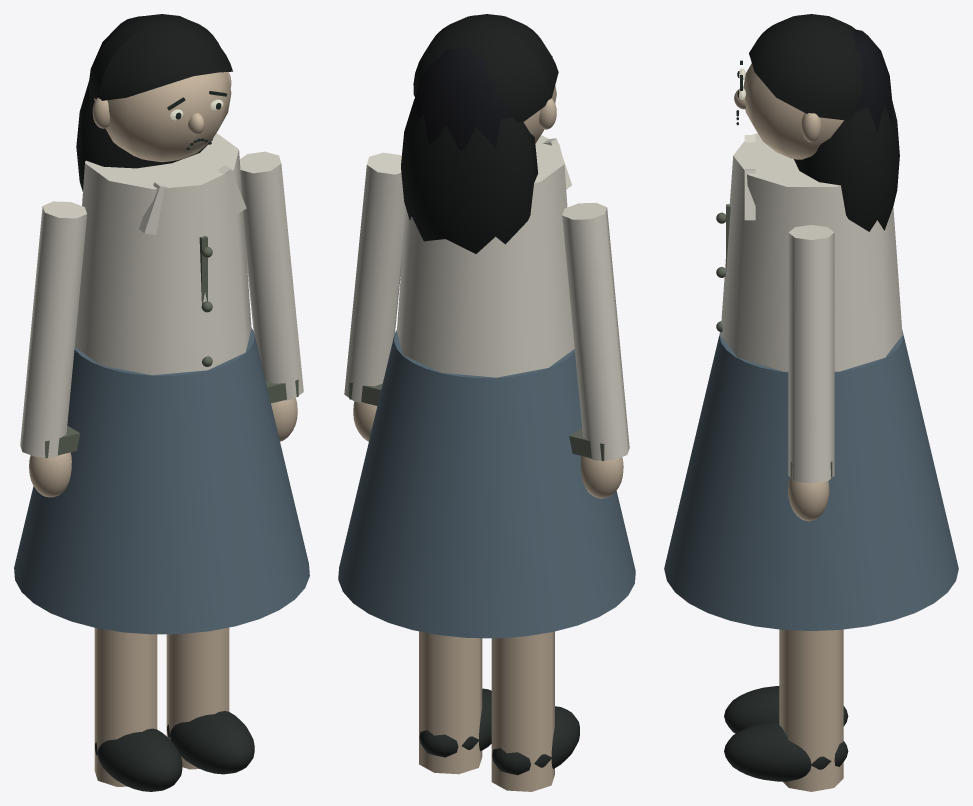
The model's file is npc_Sari.glb.
3 views of the same model, side by side, from view 1: azimuth 30°, elevation 25°; view 2: azimuth 150°, elevation 25°; view 3: azimuth 270°, elevation 25° (orthographic).
Parts seen in each view (by area): view 1: Sari_School_Skirt, Source_1047, Source_1050, Source_1052, Source_1055, Source_1073, Source_1054, Source_1049, Source_1051, Sari_Long_Hair, Source_1072, Source_1070 (+1 smaller); view 2: Sari_School_Skirt, Source_1047, Sari_Long_Hair, Source_1050, Source_1052, Source_1049, Source_1051, Source_1055, Source_1056, Source_1073, Source_1072, Source_1070; view 3: Sari_School_Skirt, Source_1047, Source_1052, Source_1055, Source_1051, Sari_Long_Hair, Source_1073, Source_1054, Source_1056, Source_1072, Source_1070, Source_1071.
Part boxes in pixels (x1,y1,x2,y2): Sari_School_Skirt: [14, 328, 309, 634]; Source_1047: [74, 133, 251, 375]; Source_1050: [20, 201, 86, 457]; Source_1052: [239, 151, 303, 400]; Source_1055: [89, 14, 232, 100]; Source_1073: [95, 711, 254, 791]; Source_1054: [94, 72, 231, 162]; Source_1049: [94, 628, 157, 786]; Source_1051: [166, 627, 229, 769]; Sari_Long_Hair: [76, 80, 212, 191]; Source_1072: [29, 398, 297, 497]; Source_1070: [45, 235, 298, 458]; Sari_School_Skirt: [338, 330, 635, 638]; Source_1047: [397, 135, 574, 377]; Sari_Long_Hair: [401, 97, 538, 253]; Source_1050: [562, 202, 629, 460]; Source_1052: [344, 152, 405, 403]; Source_1049: [491, 631, 554, 791]; Source_1051: [419, 631, 482, 774]; Source_1055: [413, 14, 558, 122]; Source_1056: [411, 48, 512, 151]; Source_1073: [419, 688, 579, 775]; Source_1072: [353, 402, 623, 498]; Source_1070: [349, 382, 604, 461]; Sari_School_Skirt: [664, 330, 958, 630]; Source_1047: [720, 133, 902, 371]; Source_1052: [788, 225, 834, 483]; Source_1055: [749, 14, 863, 120]; Source_1051: [779, 629, 843, 791]; Sari_Long_Hair: [794, 96, 899, 231]; Source_1073: [724, 686, 848, 781]; Source_1054: [743, 63, 843, 159]; Source_1056: [852, 29, 892, 132]; Source_1072: [788, 477, 829, 521]; Source_1070: [716, 204, 832, 478]; Source_1071: [744, 135, 755, 220].
Size of the model in its own units: 0.6954 by 1.77 by 0.64.
